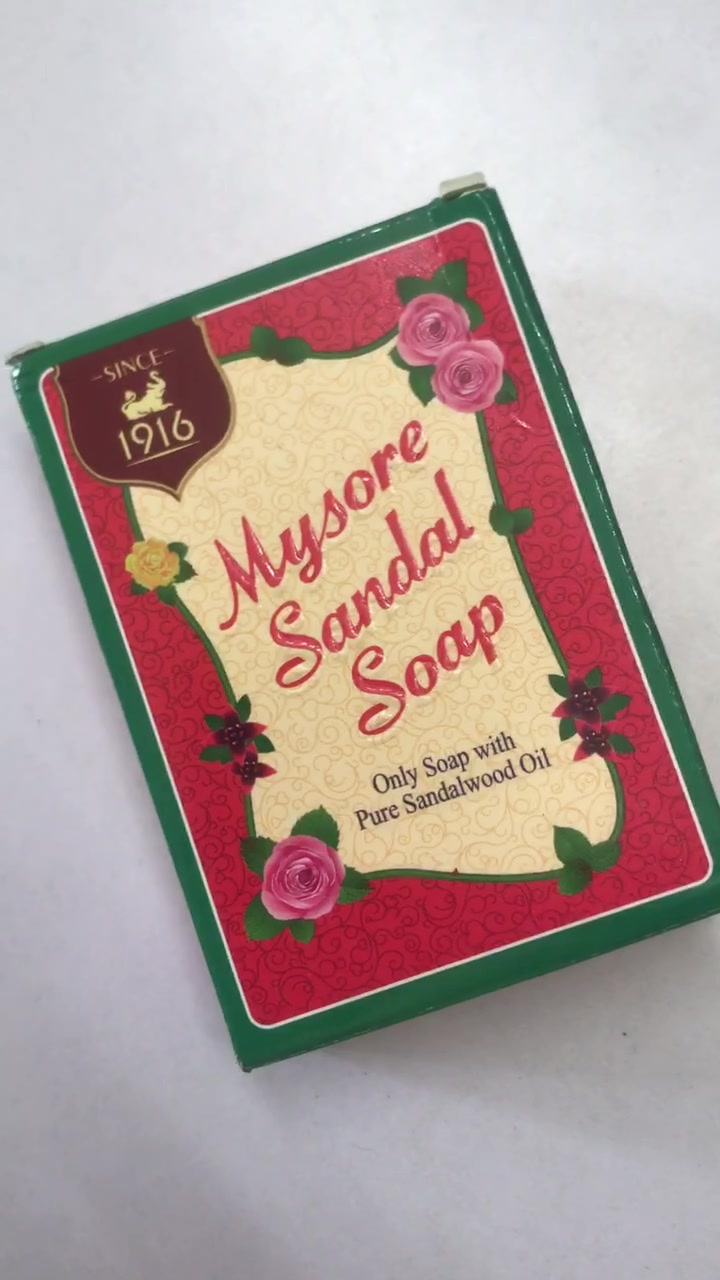mysore sandal soap: (6, 189, 720, 1086)
